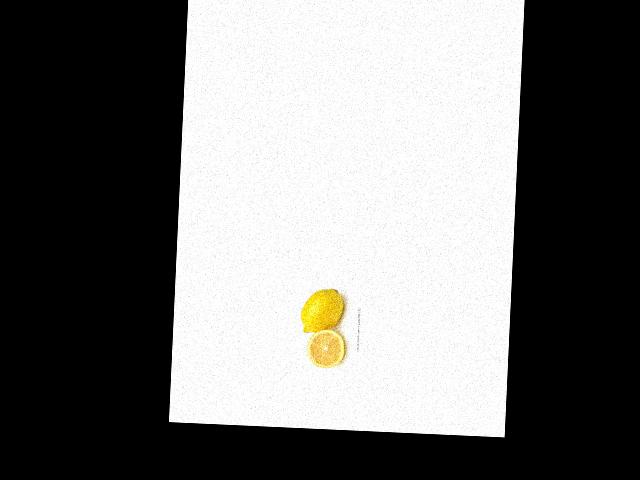lemon: (299, 283, 345, 335)
